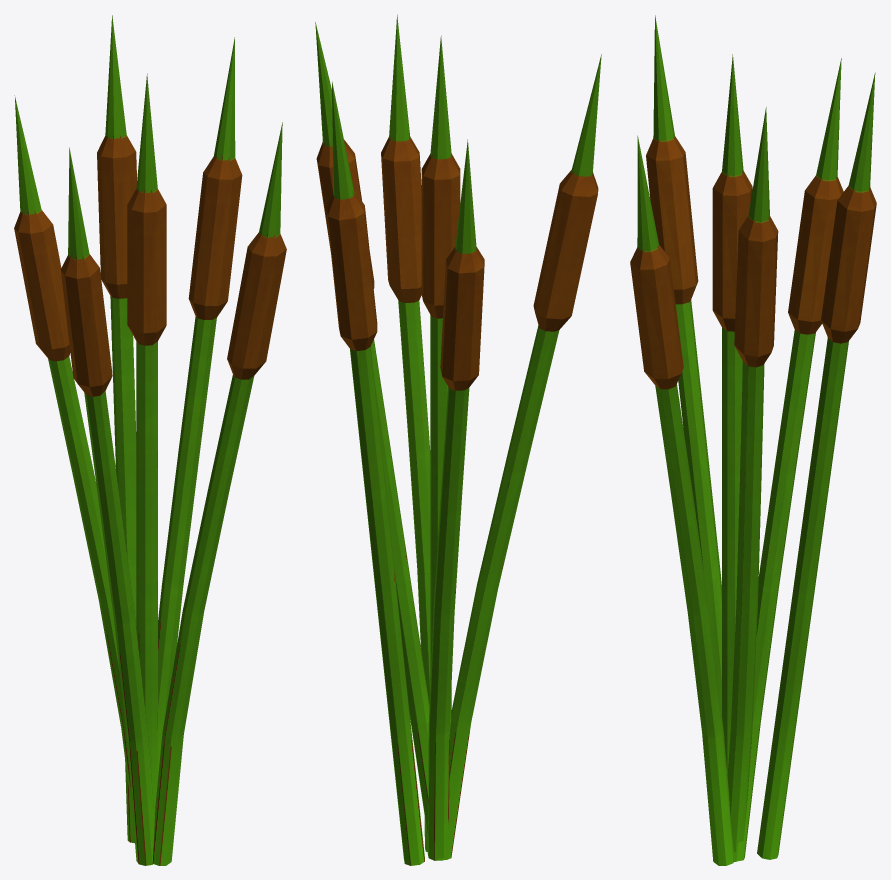
The model's file is cattail.obj.
The picture shows the model from 3 angles, left to right: view 1: azimuth 30°, elevation 25°; view 2: azimuth 150°, elevation 25°; view 3: azimuth 270°, elevation 25°; orthographic projection. The views are drawn at different scales.
Visible parts, largest first — view 1: ground.002_Cube.003; view 2: ground.002_Cube.003; view 3: ground.002_Cube.003.
Part boxes in pixels (x1,y1,x2,y2): ground.002_Cube.003: (14, 15, 286, 865); ground.002_Cube.003: (315, 14, 601, 865); ground.002_Cube.003: (630, 15, 876, 865).
Bounding box in the file's own units: 0.6708 × 2.29 × 0.6358.
